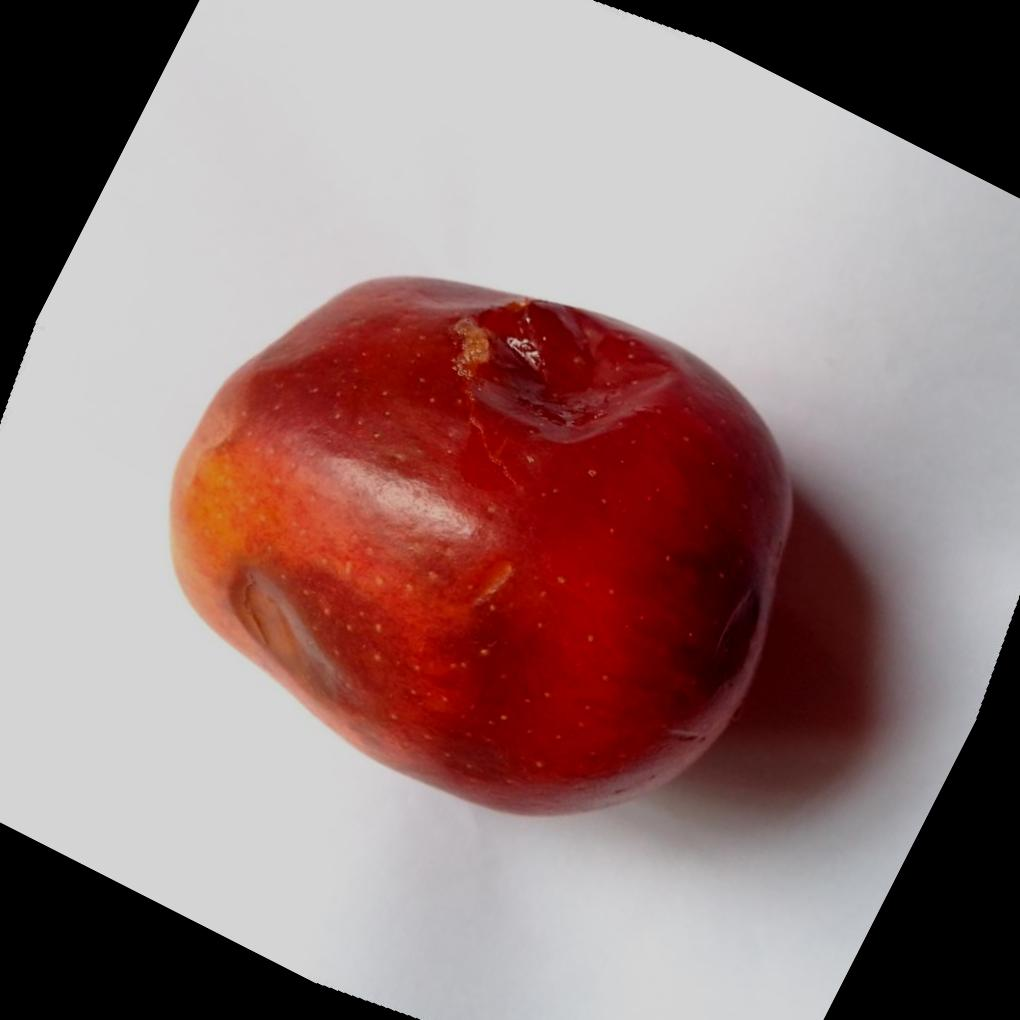FreshOrange: (166, 270, 797, 815)
